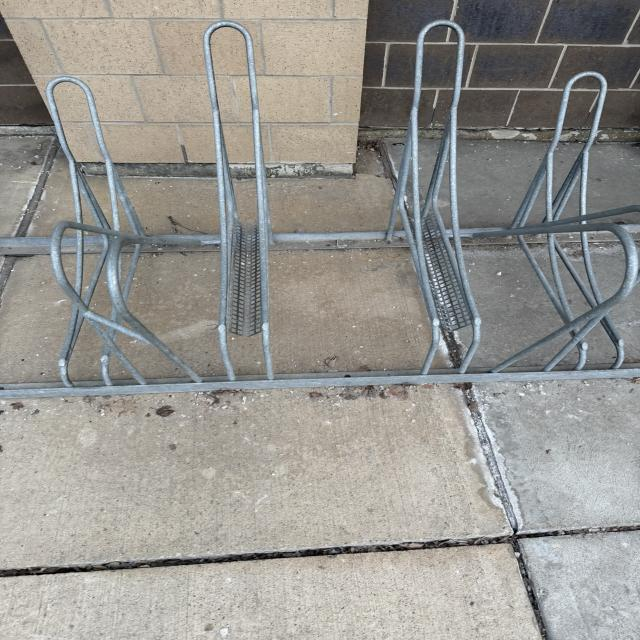Bicycle Rack: (1, 21, 640, 398)
